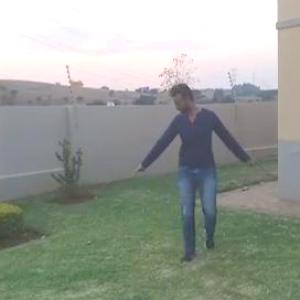land: (123, 80, 266, 270)
